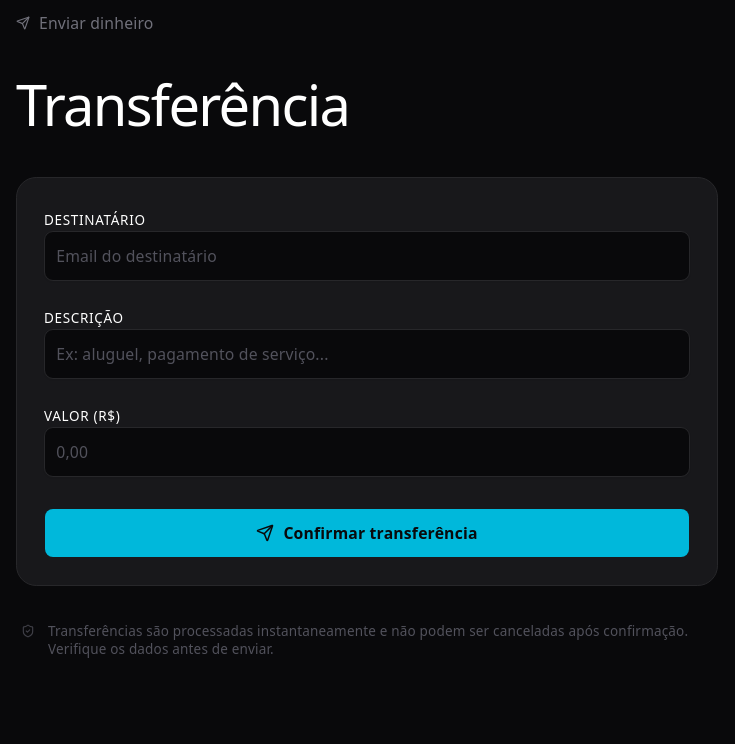
Scenario: Transfer — validação › deve exibir erro quando destinatário estiver vazio
The width and height of the screenshot is (735, 744).
Click the button "Confirmar transferência" at point(367, 533), box [44, 508, 690, 558]
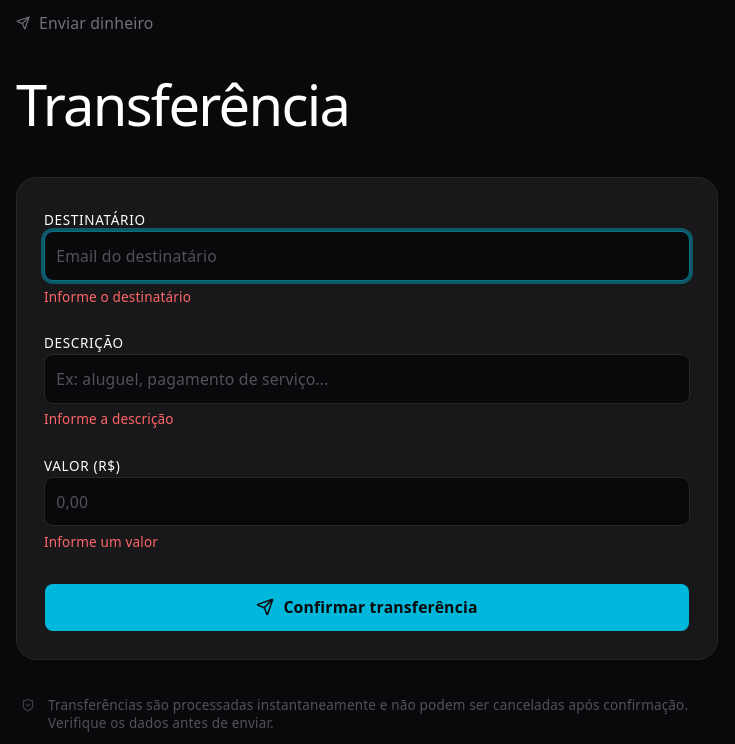
Now the text "Informe o destinatário" is shown, box [44, 288, 191, 306]
